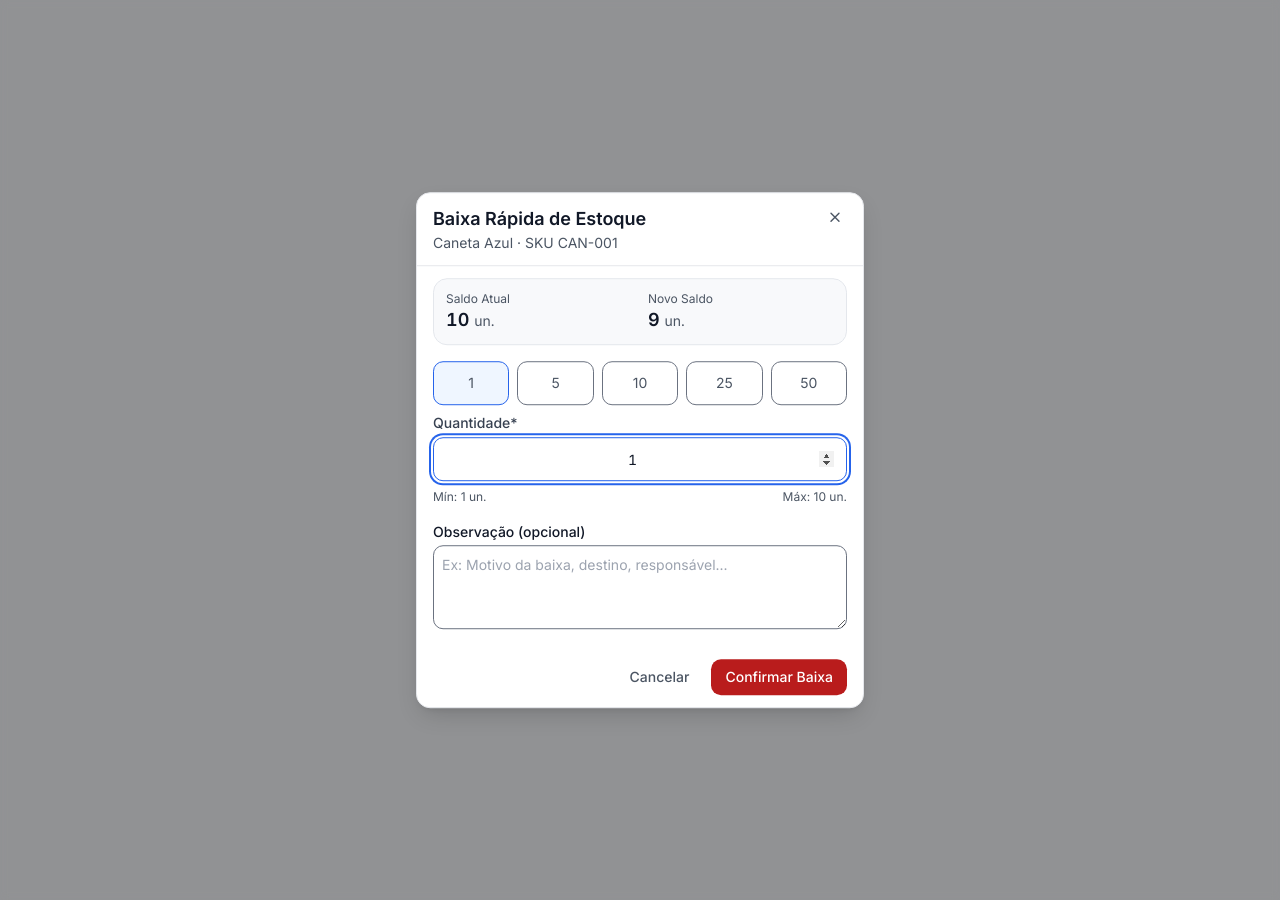
Scenario: QuickOutModal — preview do saldo resultante (QOM-7) › QOM-7 · o novo saldo é recalculado a cada digitação
Clear the number field at x=640, y=459, box [433,437,847,481]
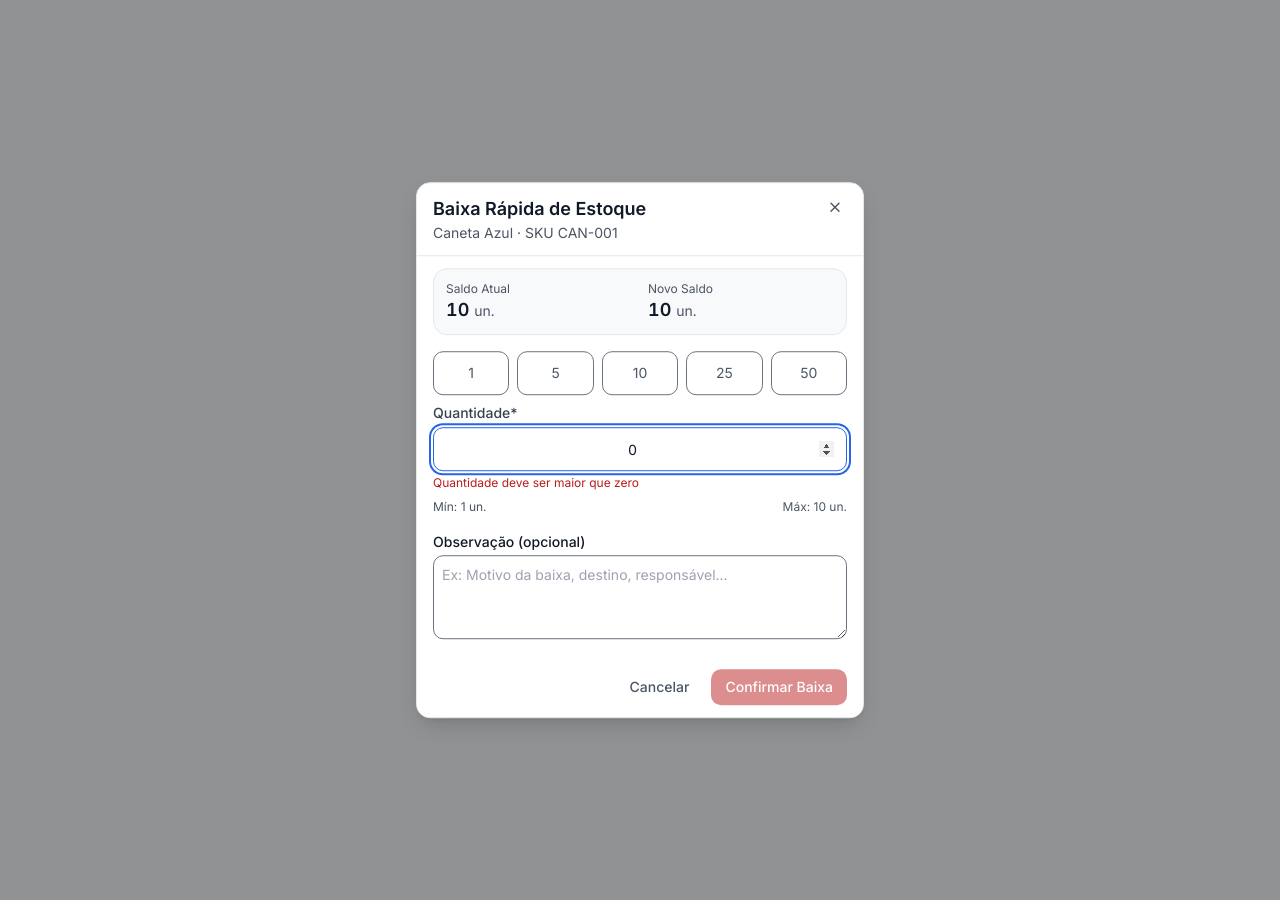
Type "3" into the number field at x=640, y=449, box [433,427,847,471]
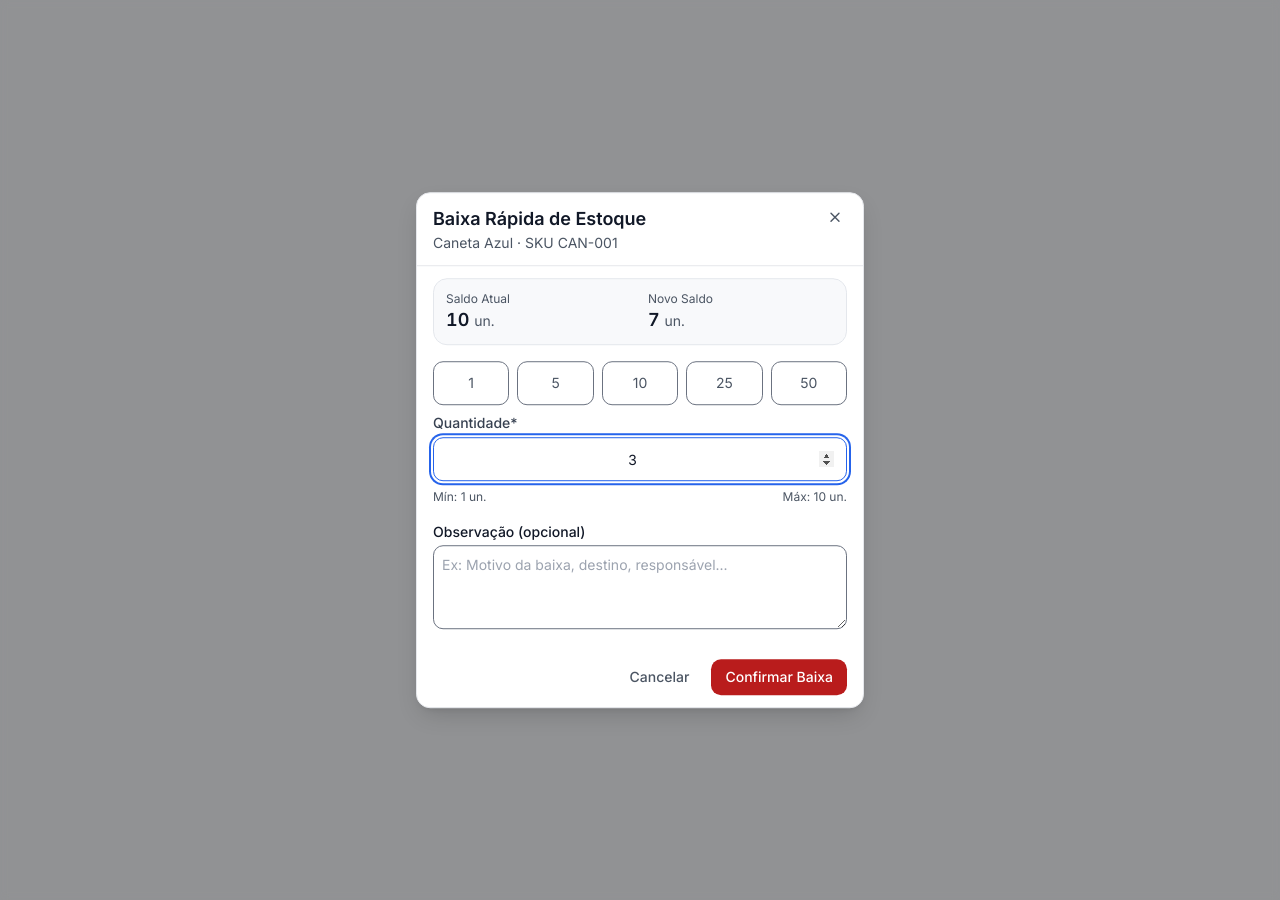
Expected: the text "7" is shown, [648,309,660,330]
Clear the number field at x=640, y=459, box [433,437,847,481]
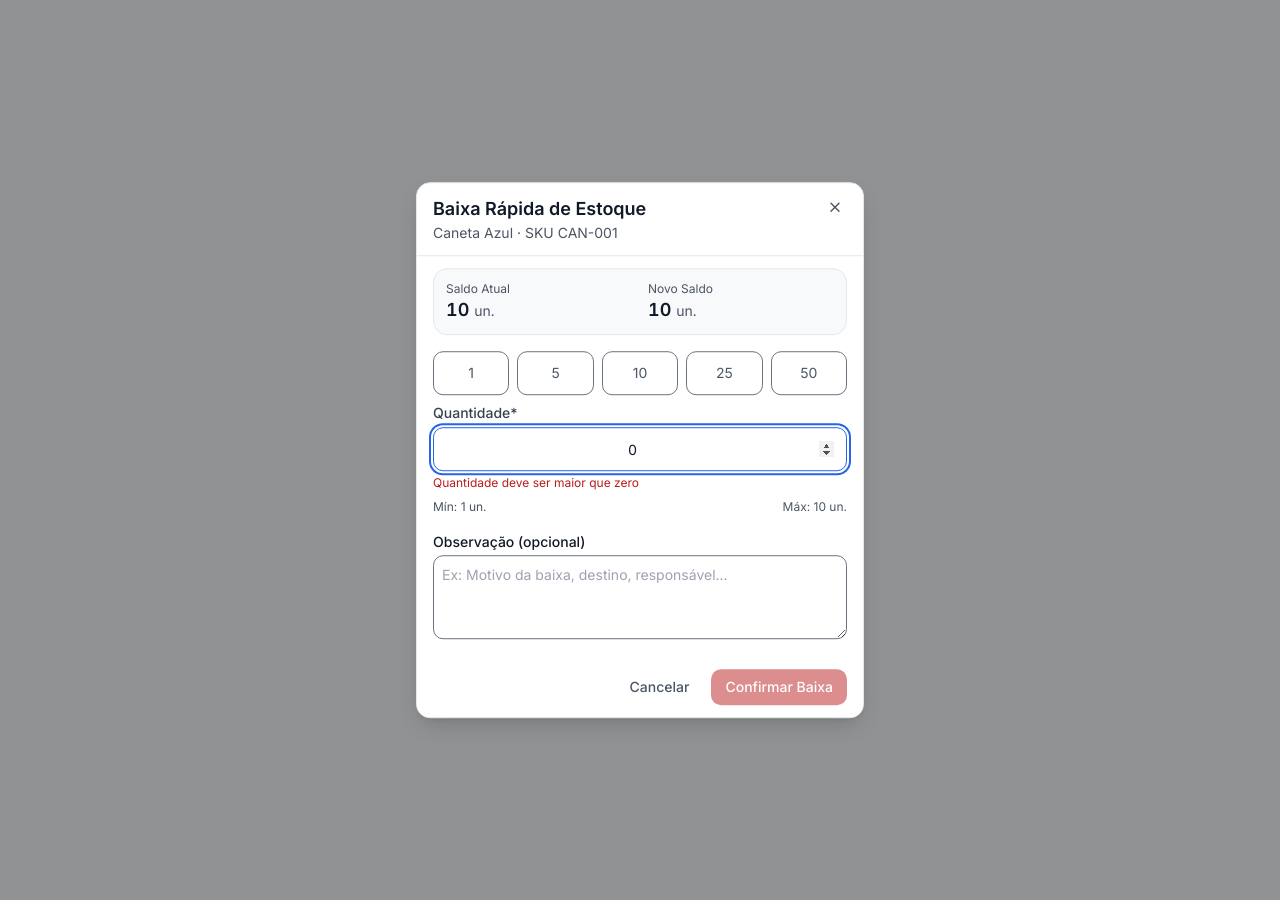
Type "8" into the number field at x=640, y=449, box [433,427,847,471]
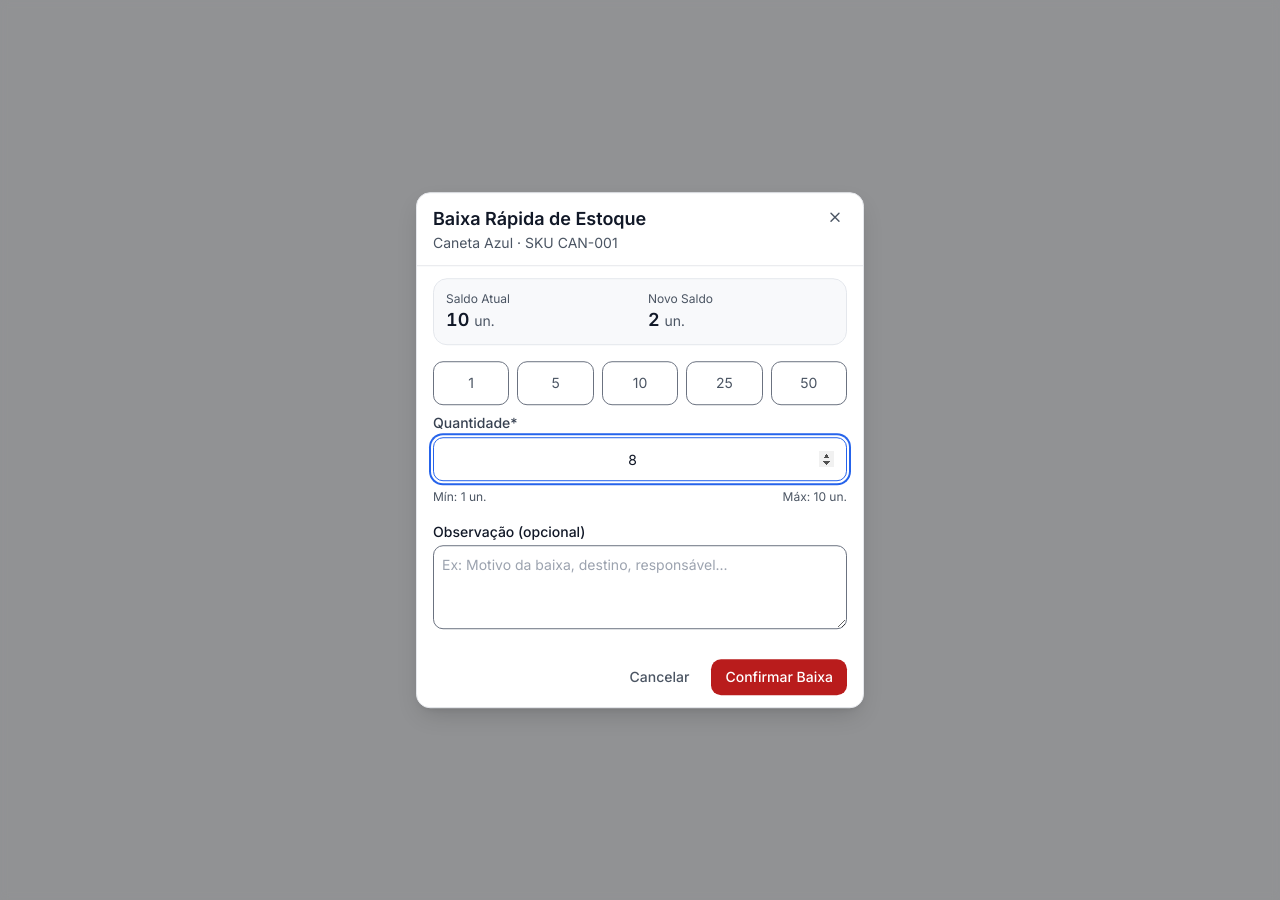
Expected: the text "7" is not shown
Expected: the text "2" is shown, [648,309,660,330]
